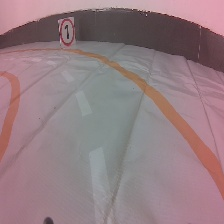limit: (57, 17, 77, 49)
